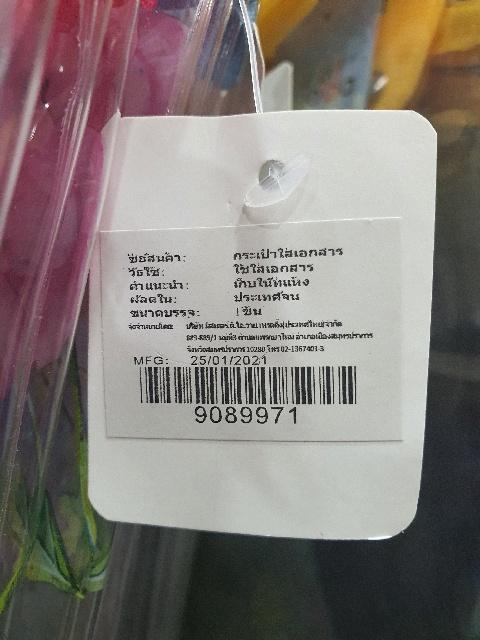Barcode: (129, 360, 369, 426)
